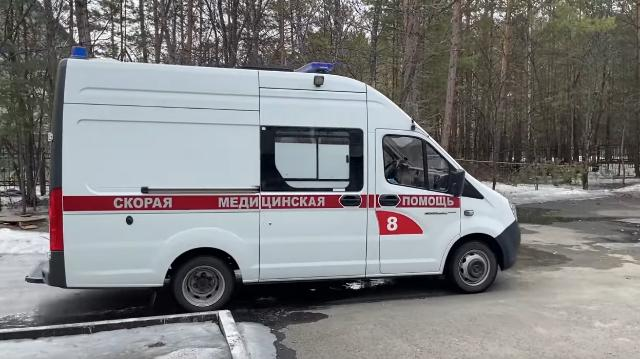ambulance: (50, 48, 520, 314)
